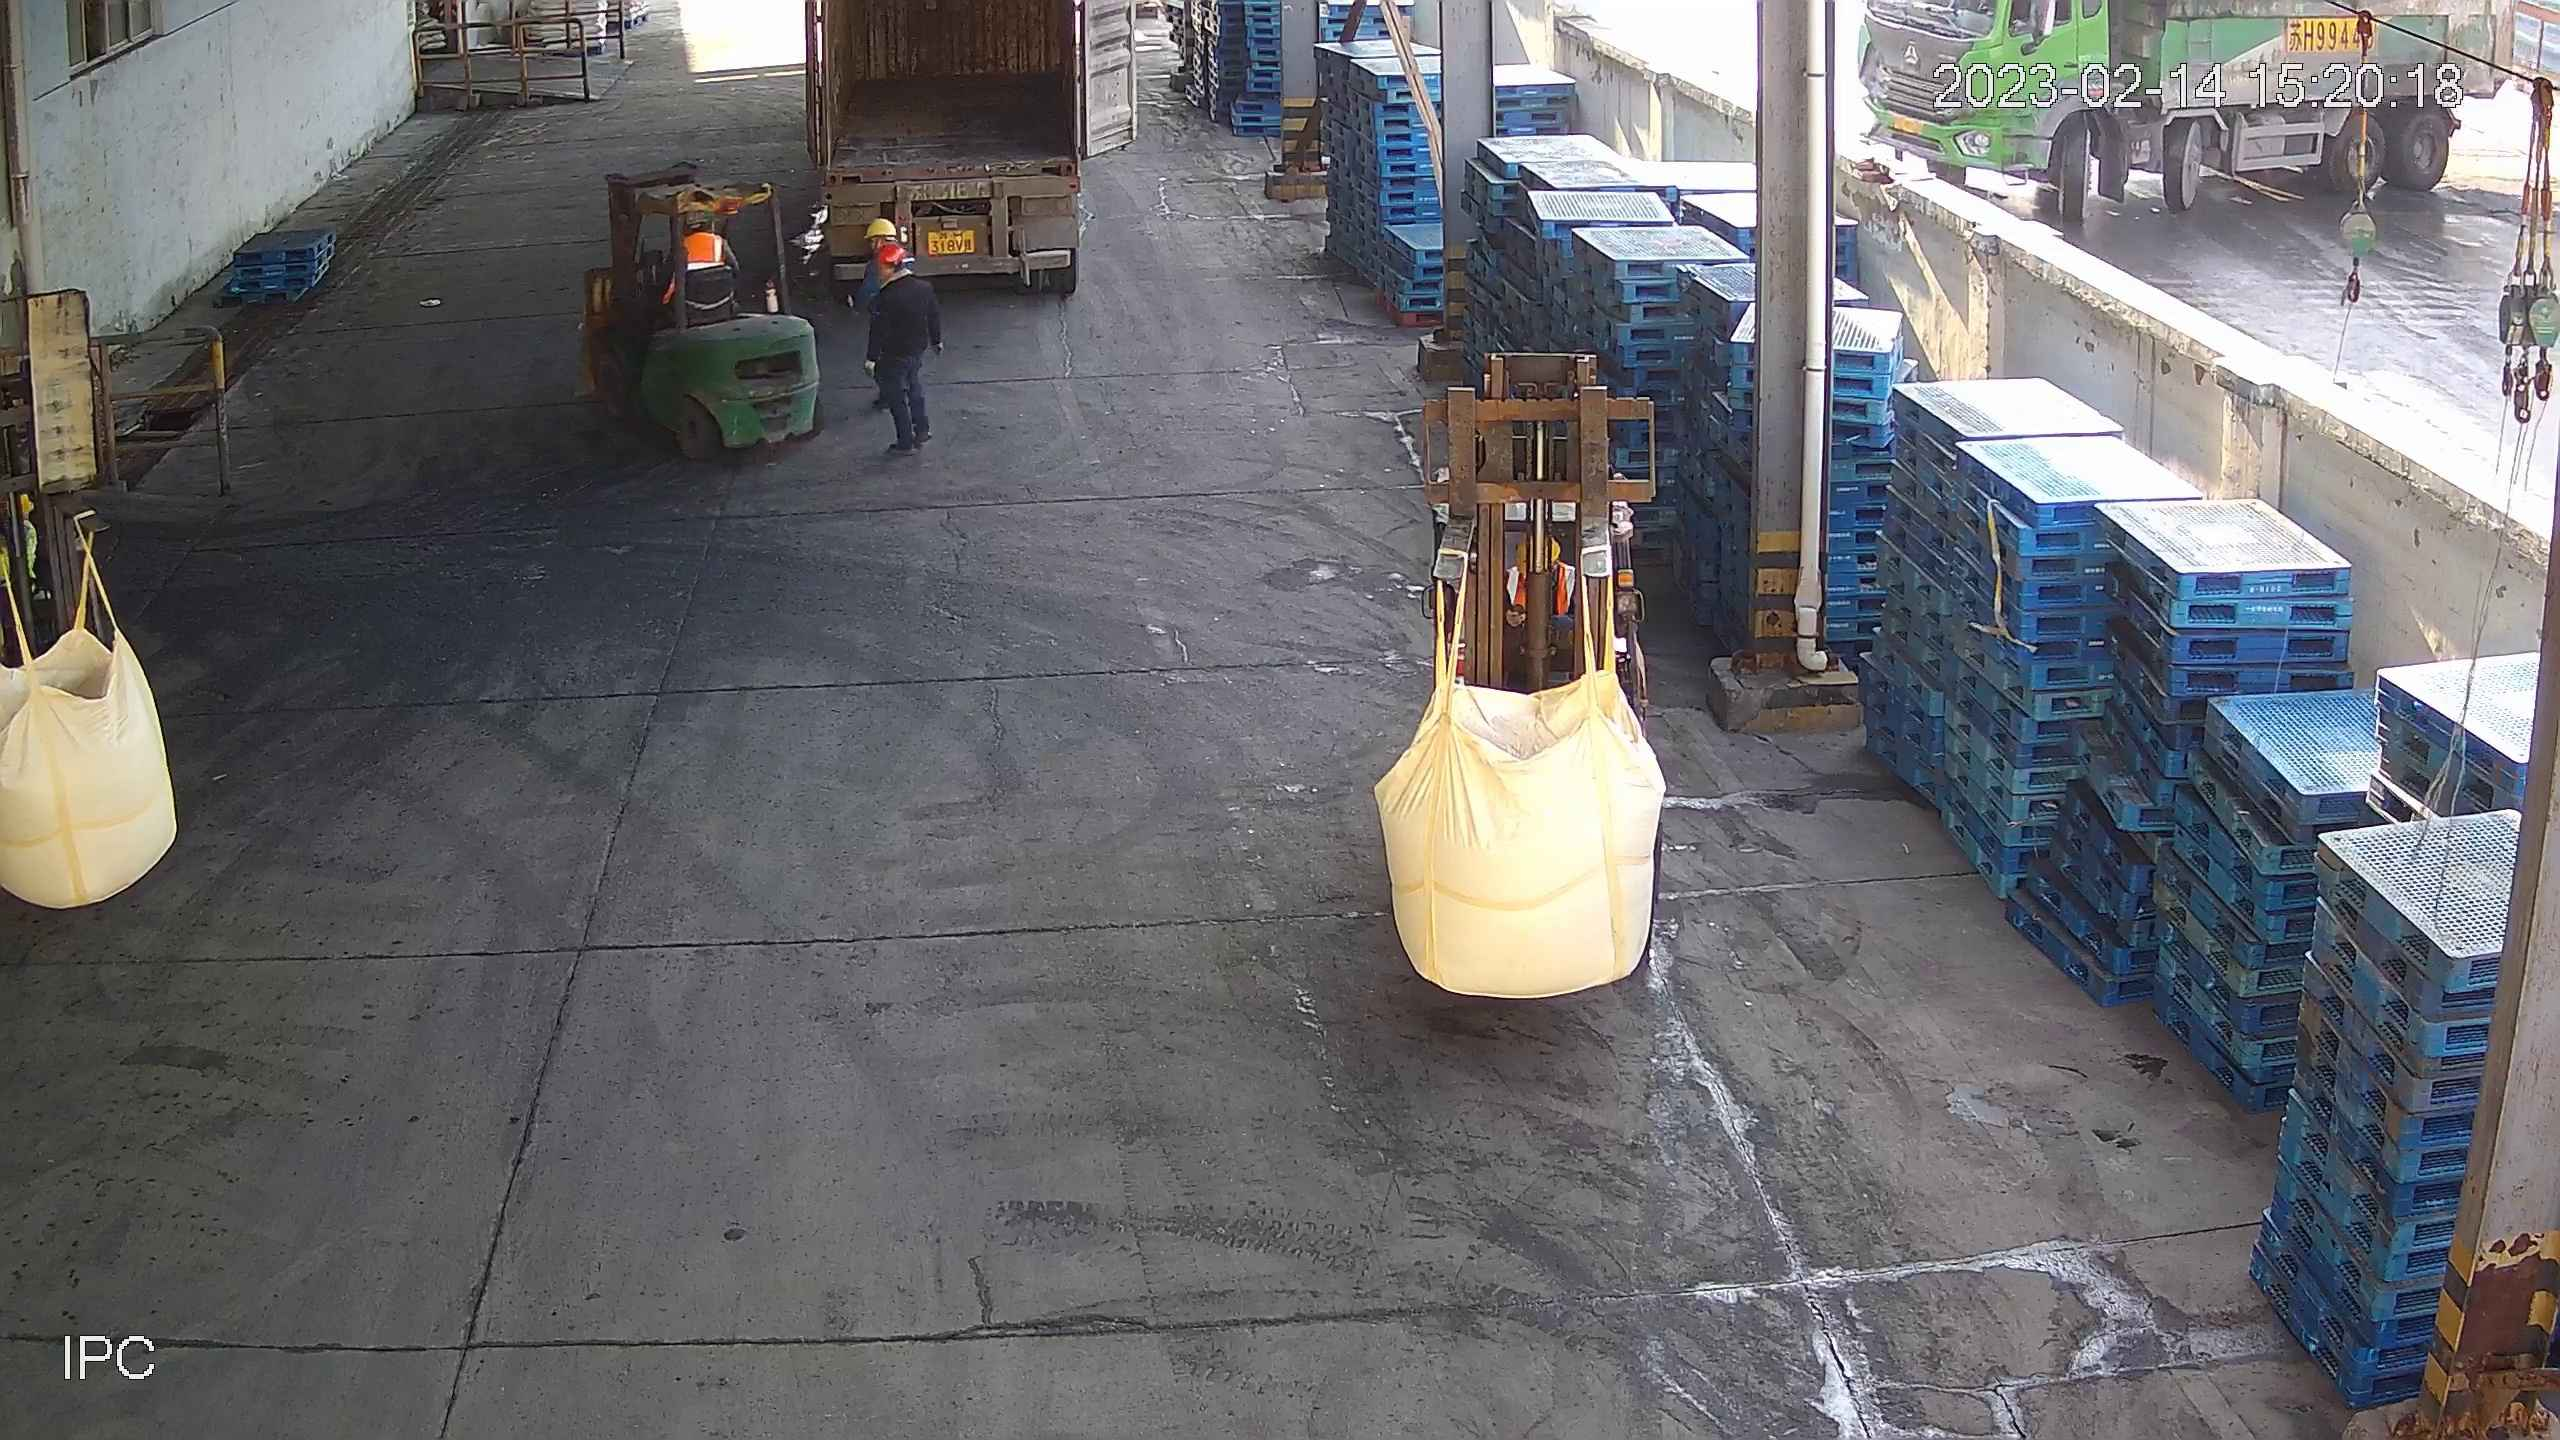head: (879, 246, 933, 298)
helmet: (861, 218, 899, 238), (877, 243, 904, 264)
people: (874, 244, 944, 460)
truck: (790, 1, 1149, 327)
